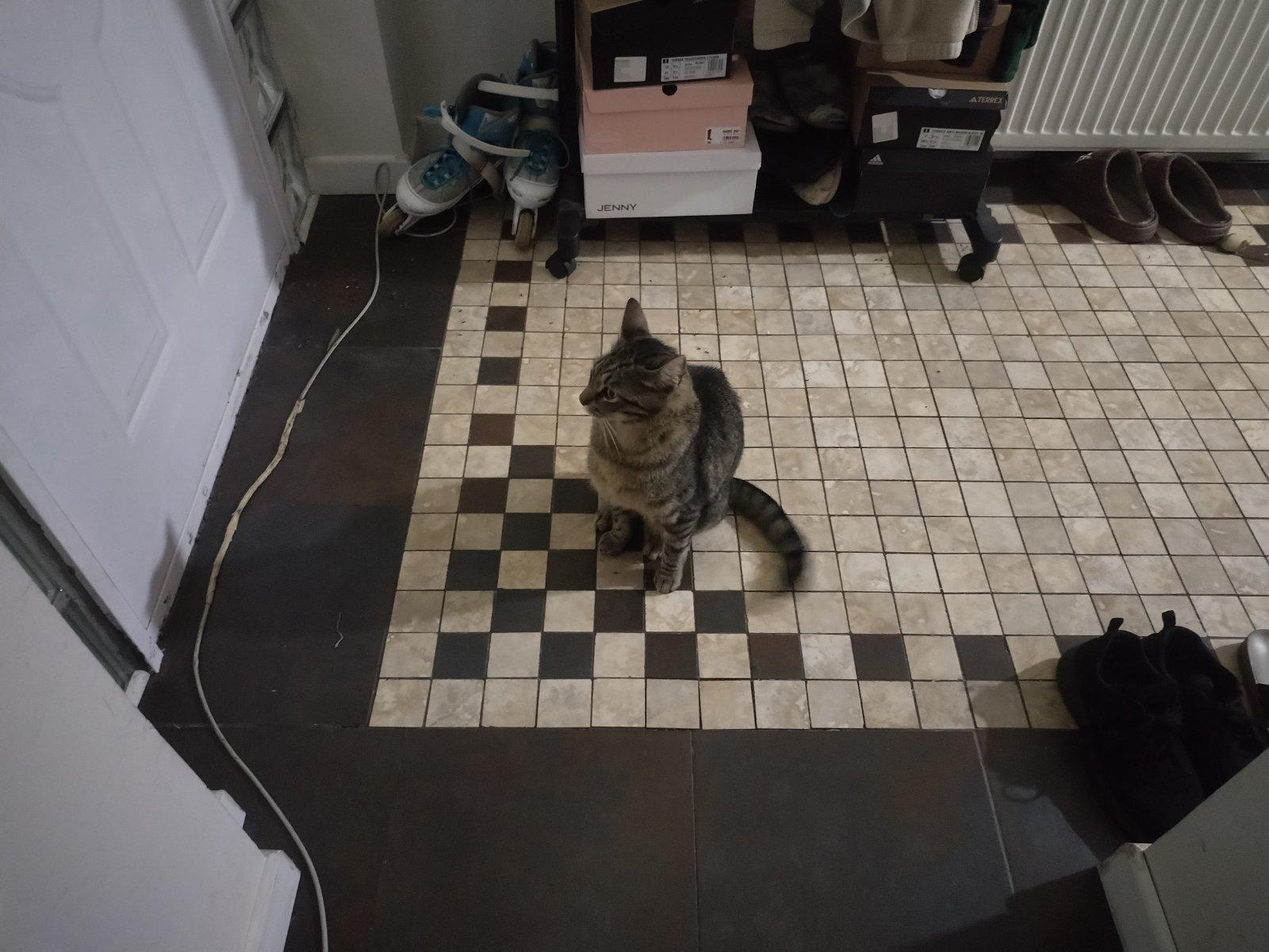macka: (574, 297, 813, 599)
